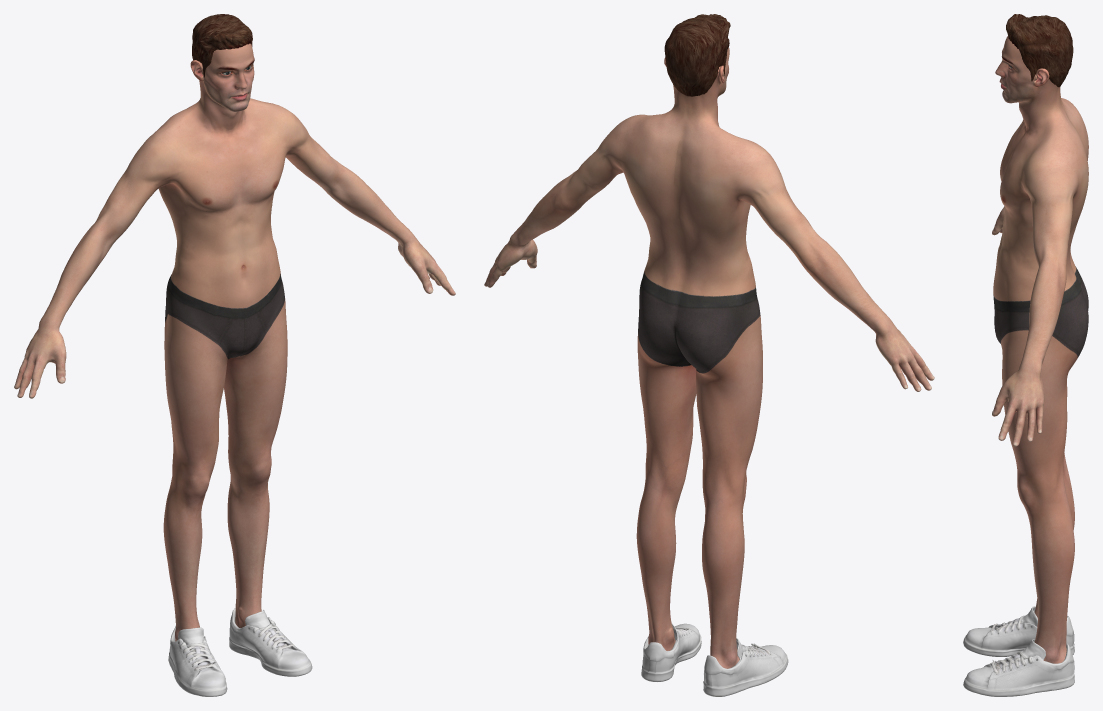
Rendered from menModel.gltf.
The picture shows the model from 3 angles, left to right: view 1: azimuth 30°, elevation 25°; view 2: azimuth 150°, elevation 25°; view 3: azimuth 270°, elevation 25°; orthographic projection.
Parts seen in each view (by area): view 1: men-model; view 2: men-model; view 3: men-model.
Boxes of the visible parts, <box> form: men-model: <box>14,14,455,696</box>; men-model: <box>484,14,934,696</box>; men-model: <box>963,14,1088,696</box>.
Bounding box in the file's own units: 4.93 × 6.97 × 1.22.
10 materials, 10 textured.
